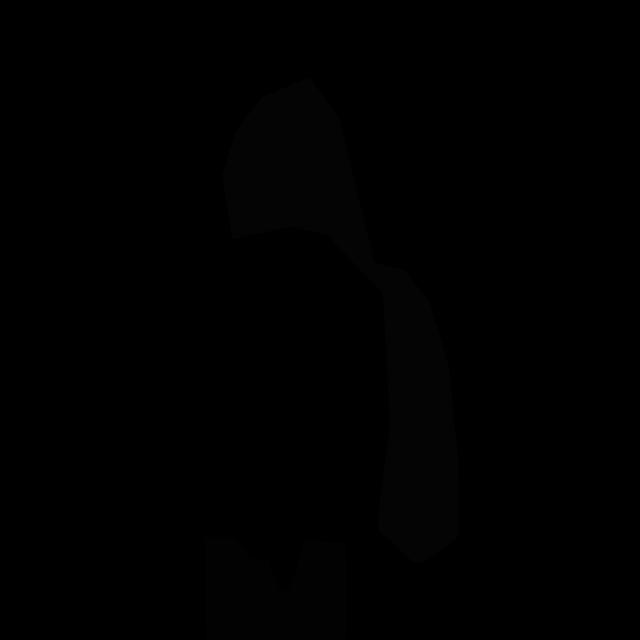cardboard: (205, 537, 347, 640)
soft_plastic: (222, 77, 459, 563)
